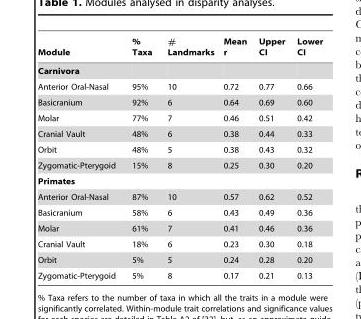table: (37, 36, 322, 279)
table column: (37, 36, 123, 279), (159, 36, 218, 279), (252, 36, 290, 279), (123, 36, 159, 279), (218, 36, 252, 279), (290, 36, 322, 279)
table column header: (37, 36, 322, 61)
table projected row header: (37, 61, 322, 78), (37, 173, 322, 188)
table row: (37, 36, 322, 61), (37, 61, 322, 78), (37, 78, 322, 94), (37, 94, 322, 110), (37, 125, 322, 141), (37, 141, 322, 157), (37, 157, 322, 173), (37, 188, 322, 204), (37, 204, 322, 220), (37, 220, 322, 236), (37, 251, 322, 267), (37, 110, 322, 125), (37, 173, 322, 188), (37, 236, 322, 251), (37, 267, 322, 279)
